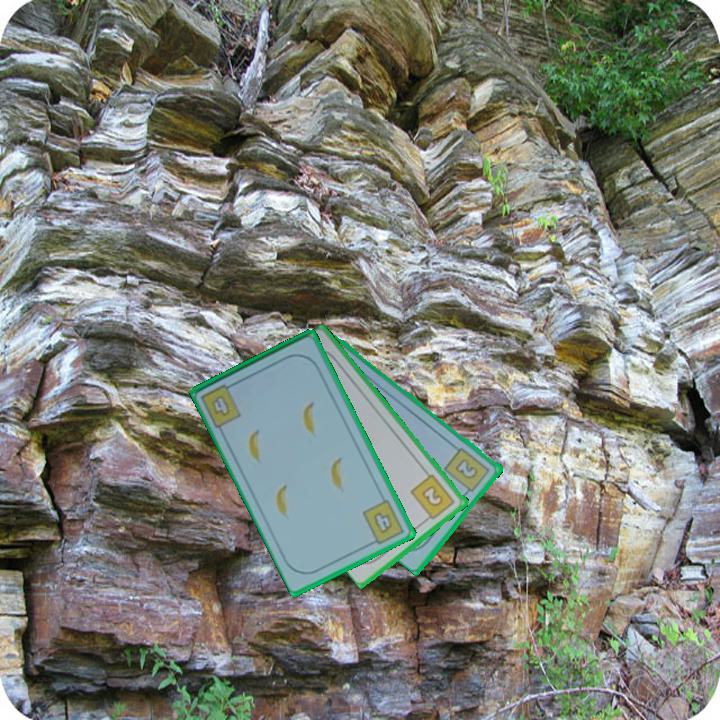2b: (441, 444, 493, 499), (407, 471, 458, 525)
4b: (359, 496, 407, 548), (197, 379, 244, 430)
